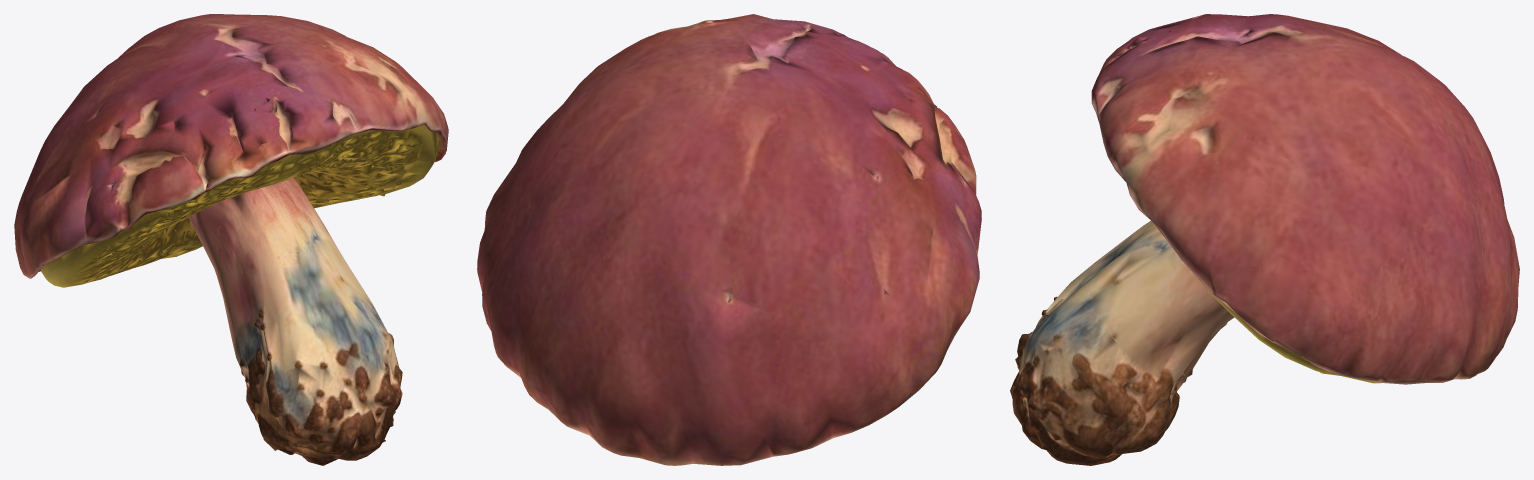
File: bluebolete.glb
3 views of the same model, side by side, from view 1: azimuth 30°, elevation 25°; view 2: azimuth 150°, elevation 25°; view 3: azimuth 270°, elevation 25° (orthographic). The views are drawn at different scales.
Parts seen in each view (by area): view 1: tripo_node_7ebb632e-3400-4584-bea9-44e33d0db171; view 2: tripo_node_7ebb632e-3400-4584-bea9-44e33d0db171; view 3: tripo_node_7ebb632e-3400-4584-bea9-44e33d0db171.
Boxes of the visible parts, x1=… form: tripo_node_7ebb632e-3400-4584-bea9-44e33d0db171: x1=14, y1=14, x2=448, y2=465; tripo_node_7ebb632e-3400-4584-bea9-44e33d0db171: x1=477, y1=14, x2=981, y2=465; tripo_node_7ebb632e-3400-4584-bea9-44e33d0db171: x1=1010, y1=14, x2=1519, y2=465.
Bounding box in the file's own units: 0.9794 × 0.8752 × 0.9752.
1 material, 1 textured.
